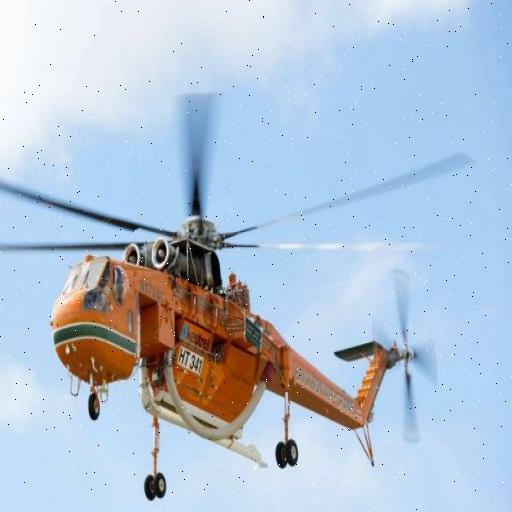helicopter: (1, 82, 476, 511)
